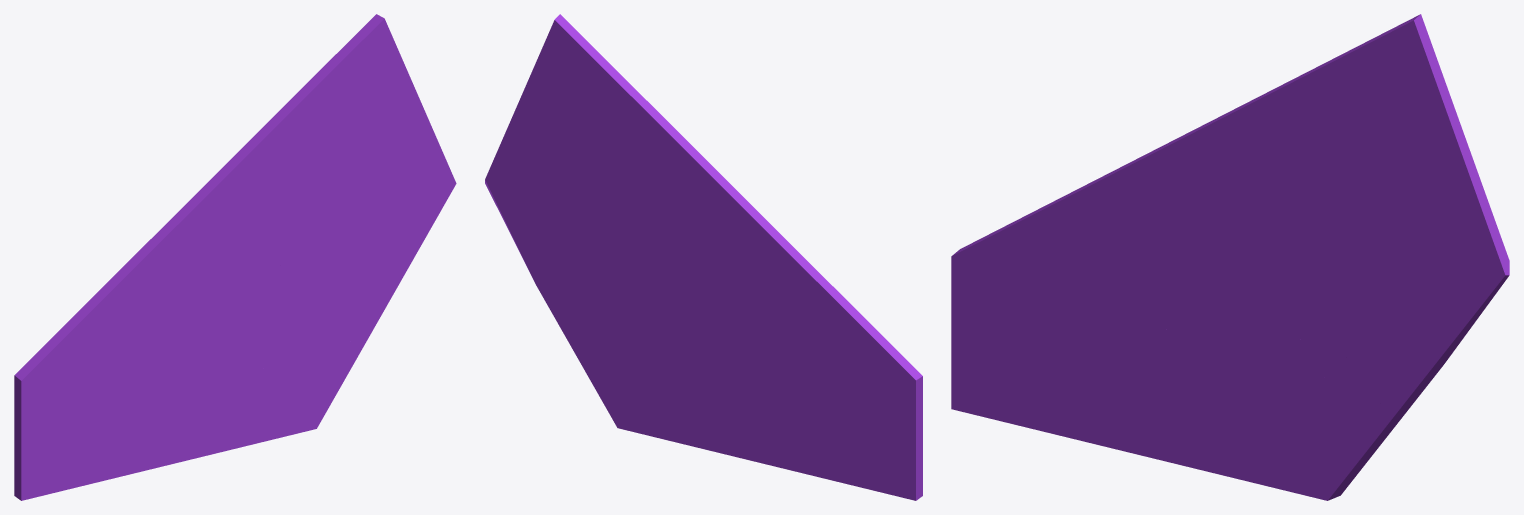
File: Glass_80_13_chunks.fbx
3 renders of one model, left to right at view 1: azimuth 30°, elevation 25°; view 2: azimuth 150°, elevation 25°; view 3: azimuth 330°, elevation 25°, orthographic. The views are drawn at different scales.
Visible parts, largest first — view 1: Glass_80_13_8, Glass_80_13_12, Glass_80_13_3, Glass_80_13_2, Glass_80_13_10, Glass_80_13_9, Glass_80_13_6, Glass_80_13_4, Glass_80_13_5, Glass_80_13_7, Glass_80_13_0, Glass_80_13_1; view 2: Glass_80_13_8, Glass_80_13_12, Glass_80_13_3, Glass_80_13_10, Glass_80_13_2, Glass_80_13_4, Glass_80_13_11, Glass_80_13_7, Glass_80_13_5, Glass_80_13_6; view 3: Glass_80_13_8, Glass_80_13_12, Glass_80_13_3, Glass_80_13_2, Glass_80_13_10, Glass_80_13_9, Glass_80_13_6, Glass_80_13_5, Glass_80_13_4, Glass_80_13_7, Glass_80_13_0, Glass_80_13_1 (+1 smaller).
Boxes of the visible parts, x1=… form: Glass_80_13_8: x1=14, y1=346, x2=225, y2=500; Glass_80_13_12: x1=285, y1=14, x2=425, y2=234; Glass_80_13_3: x1=181, y1=89, x2=313, y2=325; Glass_80_13_2: x1=14, y1=302, x2=212, y2=433; Glass_80_13_10: x1=279, y1=220, x2=401, y2=339; Glass_80_13_9: x1=358, y1=112, x2=456, y2=279; Glass_80_13_6: x1=201, y1=372, x2=345, y2=456; Glass_80_13_4: x1=34, y1=185, x2=206, y2=357; Glass_80_13_5: x1=177, y1=296, x2=322, y2=384; Glass_80_13_7: x1=259, y1=327, x2=362, y2=376; Glass_80_13_0: x1=264, y1=264, x2=367, y2=347; Glass_80_13_1: x1=35, y1=283, x2=184, y2=367; Glass_80_13_8: x1=709, y1=342, x2=922, y2=500; Glass_80_13_12: x1=513, y1=14, x2=657, y2=236; Glass_80_13_3: x1=630, y1=85, x2=755, y2=322; Glass_80_13_10: x1=534, y1=220, x2=668, y2=349; Glass_80_13_2: x1=723, y1=295, x2=922, y2=432; Glass_80_13_4: x1=725, y1=190, x2=899, y2=360; Glass_80_13_11: x1=485, y1=114, x2=579, y2=280; Glass_80_13_7: x1=573, y1=318, x2=711, y2=405; Glass_80_13_5: x1=625, y1=291, x2=756, y2=377; Glass_80_13_6: x1=605, y1=399, x2=728, y2=455; Glass_80_13_8: x1=951, y1=308, x2=1211, y2=464; Glass_80_13_12: x1=1287, y1=14, x2=1473, y2=260; Glass_80_13_3: x1=1155, y1=63, x2=1324, y2=304; Glass_80_13_2: x1=951, y1=237, x2=1194, y2=323; Glass_80_13_10: x1=1279, y1=234, x2=1446, y2=424; Glass_80_13_9: x1=1380, y1=164, x2=1509, y2=363; Glass_80_13_6: x1=1180, y1=388, x2=1364, y2=500; Glass_80_13_5: x1=1149, y1=299, x2=1334, y2=391; Glass_80_13_4: x1=981, y1=125, x2=1202, y2=240; Glass_80_13_7: x1=1253, y1=375, x2=1396, y2=473; Glass_80_13_0: x1=1261, y1=268, x2=1391, y2=426; Glass_80_13_1: x1=968, y1=231, x2=1158, y2=257.
Bounding box in the file's own units: 988 × 855 × 27.2.
